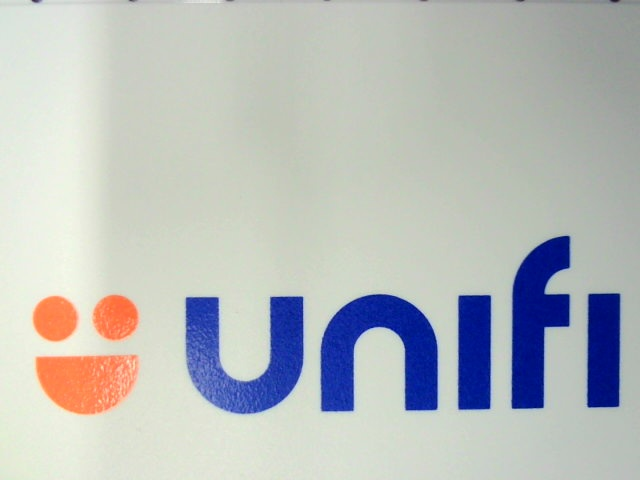BN_unifi: (20, 224, 629, 424)
